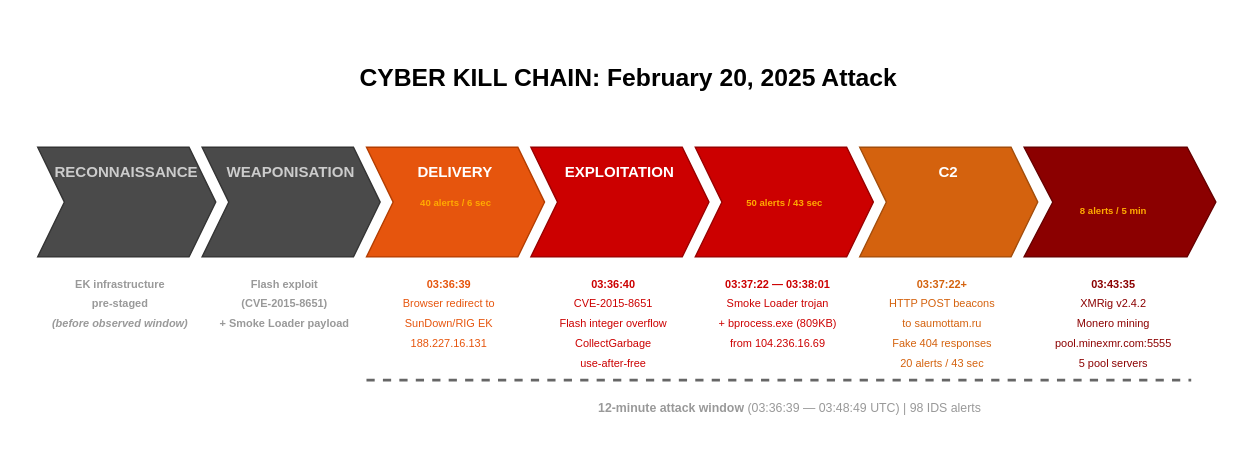
This 1240x452 diagram has some shape labels left out. Each missing label, with the box of its shape:
ACTIONS ON OBJECTIVES: (1023, 146, 1216, 257)
INSTALLATION: (694, 146, 873, 257)
